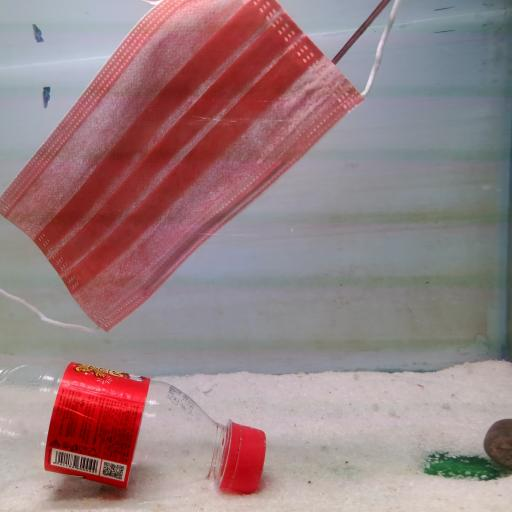bottle_cap: (220, 412, 266, 500)
mask: (2, 0, 396, 332)
plastic_bottle: (2, 358, 268, 498)
